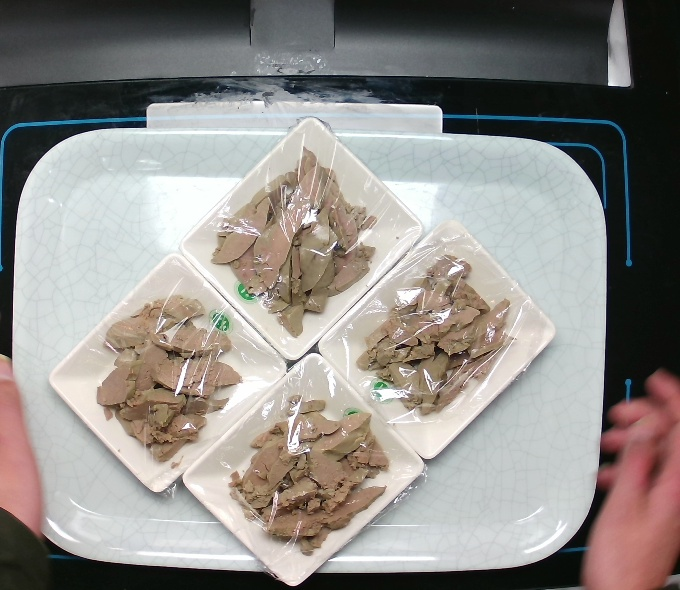wcq-EGan: (207, 146, 375, 331), (229, 393, 393, 560), (362, 255, 517, 425), (90, 294, 235, 463)
